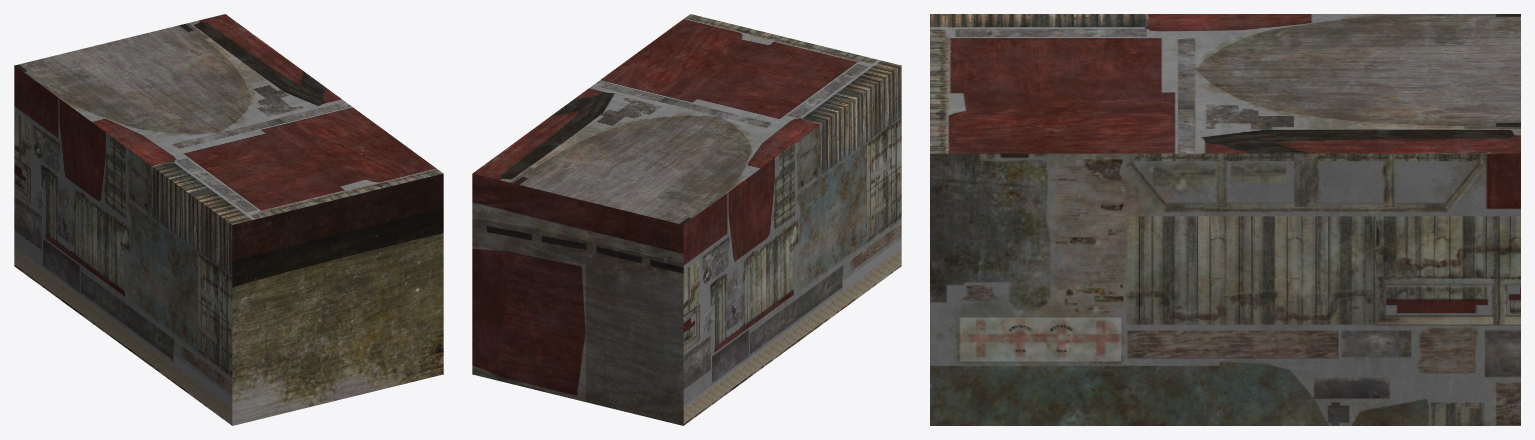
The model's file is beached_boat_base_b.DAE.
3 renders of one model, left to right at view 1: azimuth 30°, elevation 25°; view 2: azimuth 150°, elevation 25°; view 3: azimuth 270°, elevation 25°, orthographic. The views are drawn at different scales.
Parts seen in each view (by area): view 1: bounds; view 2: bounds; view 3: bounds.
Boxes of the visible parts, x1,y1,x2,y2 form: bounds: (14,14,443,425); bounds: (472,14,901,425); bounds: (930,14,1520,425).
Bounding box in the file's own units: 925 × 1654 × 841.
